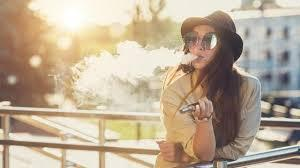smoker: (142, 15, 262, 138)
